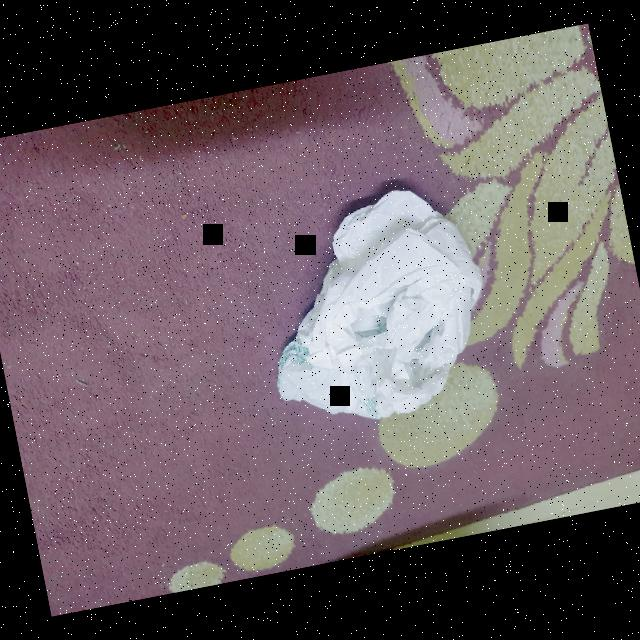plastic_bag: (235, 162, 515, 444)
